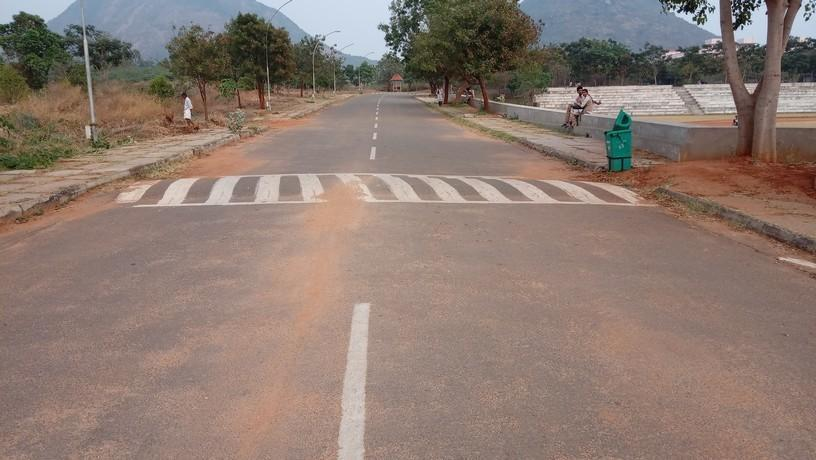speedbreaker: (100, 168, 670, 211)
